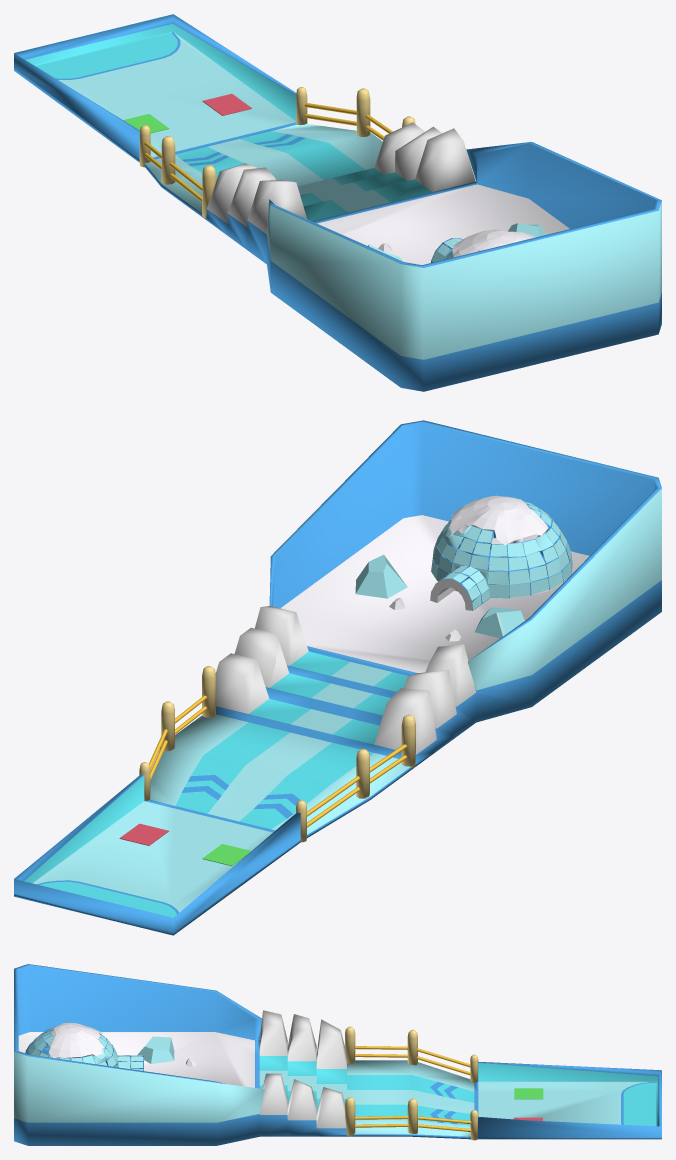
File: TutorialStage.fbx
The picture shows the model from 3 angles, top to bottom: view 1: azimuth 30°, elevation 25°; view 2: azimuth 150°, elevation 25°; view 3: azimuth 270°, elevation 25°; orthographic projection. The views are drawn at different scales.
Visible parts, largest first — view 1: Platform, Plane, Sphere_002, Pole_2L, RedCube, Pole_2R; view 2: Platform, Sphere_002, Plane, Cylinder.001, Sphere.001, Bato; view 3: Platform, Sphere_002, Plane, Bato, Pole_3L, Cylinder.001, Pole_3R, Pole_2L, Pole_2R, GreenCube.
Boxes of the visible parts, <box> form: Platform: <box>14,14,661,391</box>; Plane: <box>144,103,392,201</box>; Sphere_002: <box>445,229,536,259</box>; Pole_2L: <box>356,88,370,136</box>; RedCube: <box>202,93,251,115</box>; Pole_2R: <box>161,136,175,184</box>; Platform: <box>14,420,661,935</box>; Sphere_002: <box>431,495,572,598</box>; Plane: <box>149,695,407,827</box>; Cylinder.001: <box>430,566,489,610</box>; Sphere.001: <box>355,554,407,598</box>; Bato: <box>475,607,524,638</box>; Platform: <box>14,964,661,1145</box>; Sphere_002: <box>25,1022,118,1067</box>; Plane: <box>354,1046,471,1131</box>; Bato: <box>137,1036,174,1063</box>; Pole_3L: <box>345,1097,355,1136</box>; Cylinder.001: <box>117,1055,143,1070</box>; Pole_3R: <box>345,1026,355,1064</box>; Pole_2L: <box>407,1098,417,1133</box>; Pole_2R: <box>407,1029,417,1065</box>; GreenCube: <box>514,1088,543,1099</box>.
Size of the model in its own units: 84.68 by 43.26 by 251.
